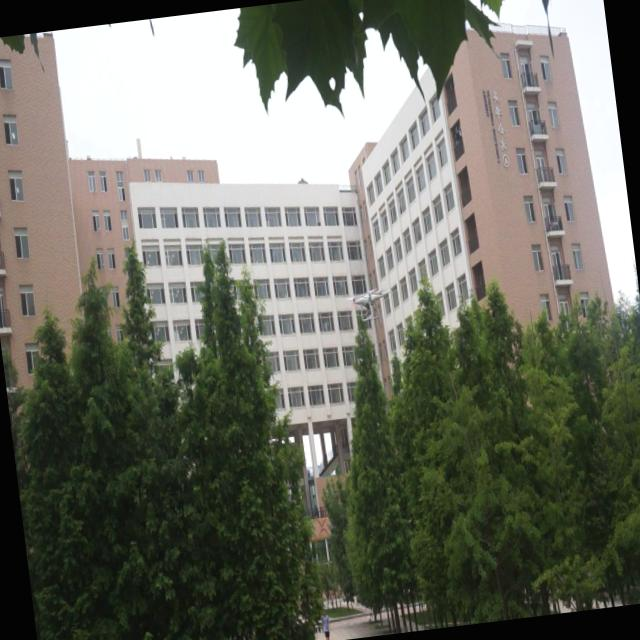drone: (344, 279, 392, 331)
